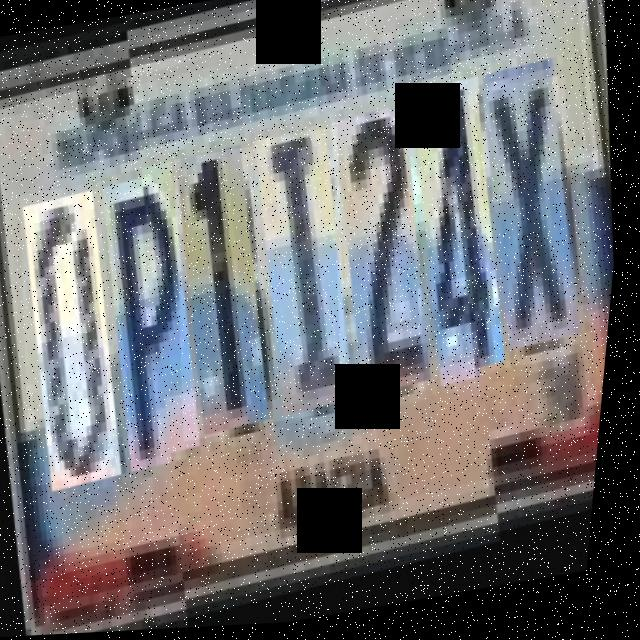0: (2, 180, 143, 489)
1: (156, 147, 290, 445)
2: (315, 111, 454, 410)
4: (394, 94, 530, 403)
I: (236, 128, 374, 428)
P: (82, 162, 223, 471)
X: (464, 79, 602, 377)
